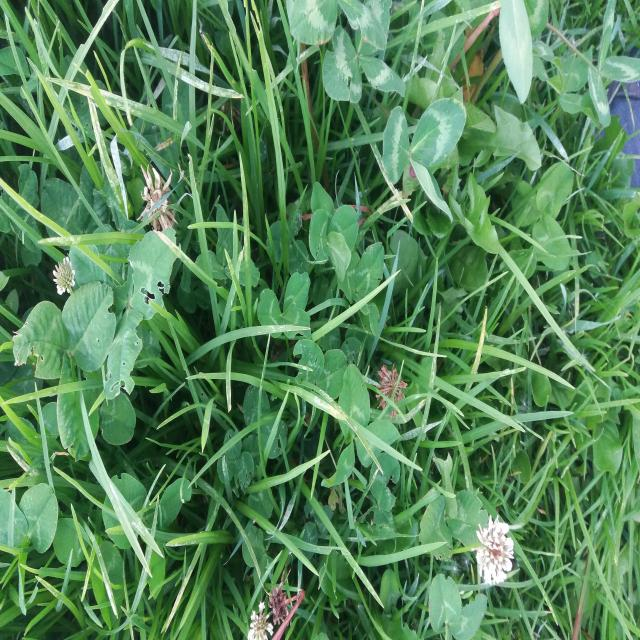Four Leaf Clover: (309, 182, 359, 282)
